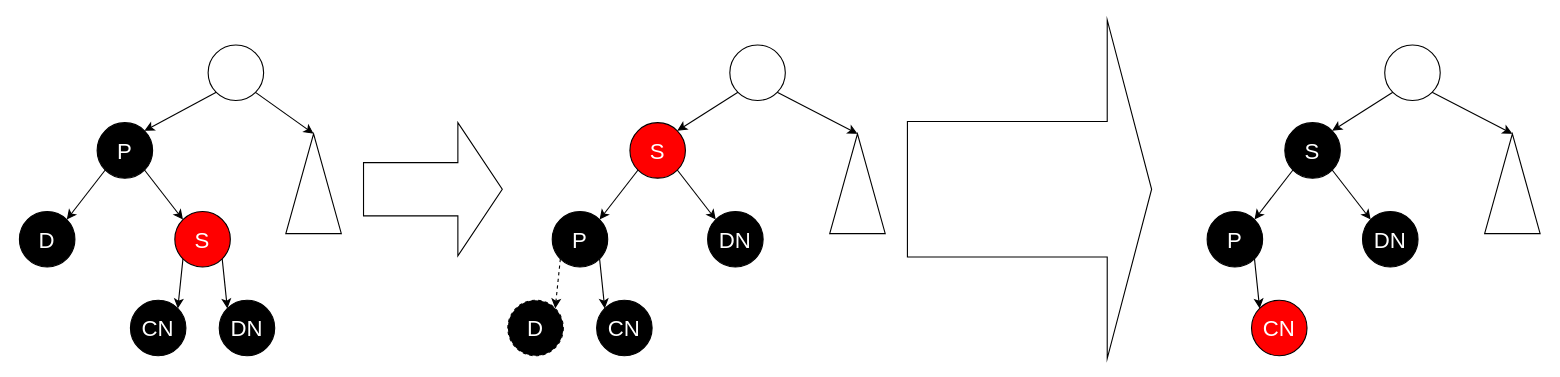
Image size: 1560x377. Some labels were removed from this diagram. Each missing label, with the centre of its shape:
P向左旋转: point 432,189
检查D的新兄弟节点， 因为它（CN）没有 红色孩子节点，因此 交换CN和S的颜色: point 1029,189
